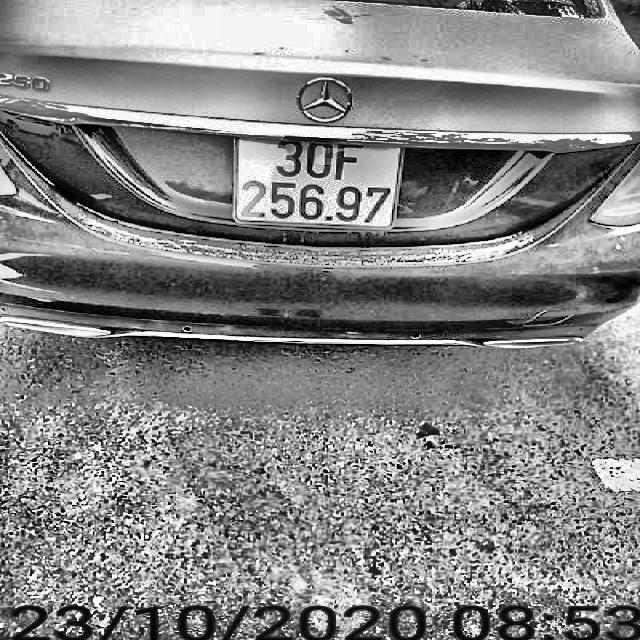plate: (215, 134, 414, 232)
